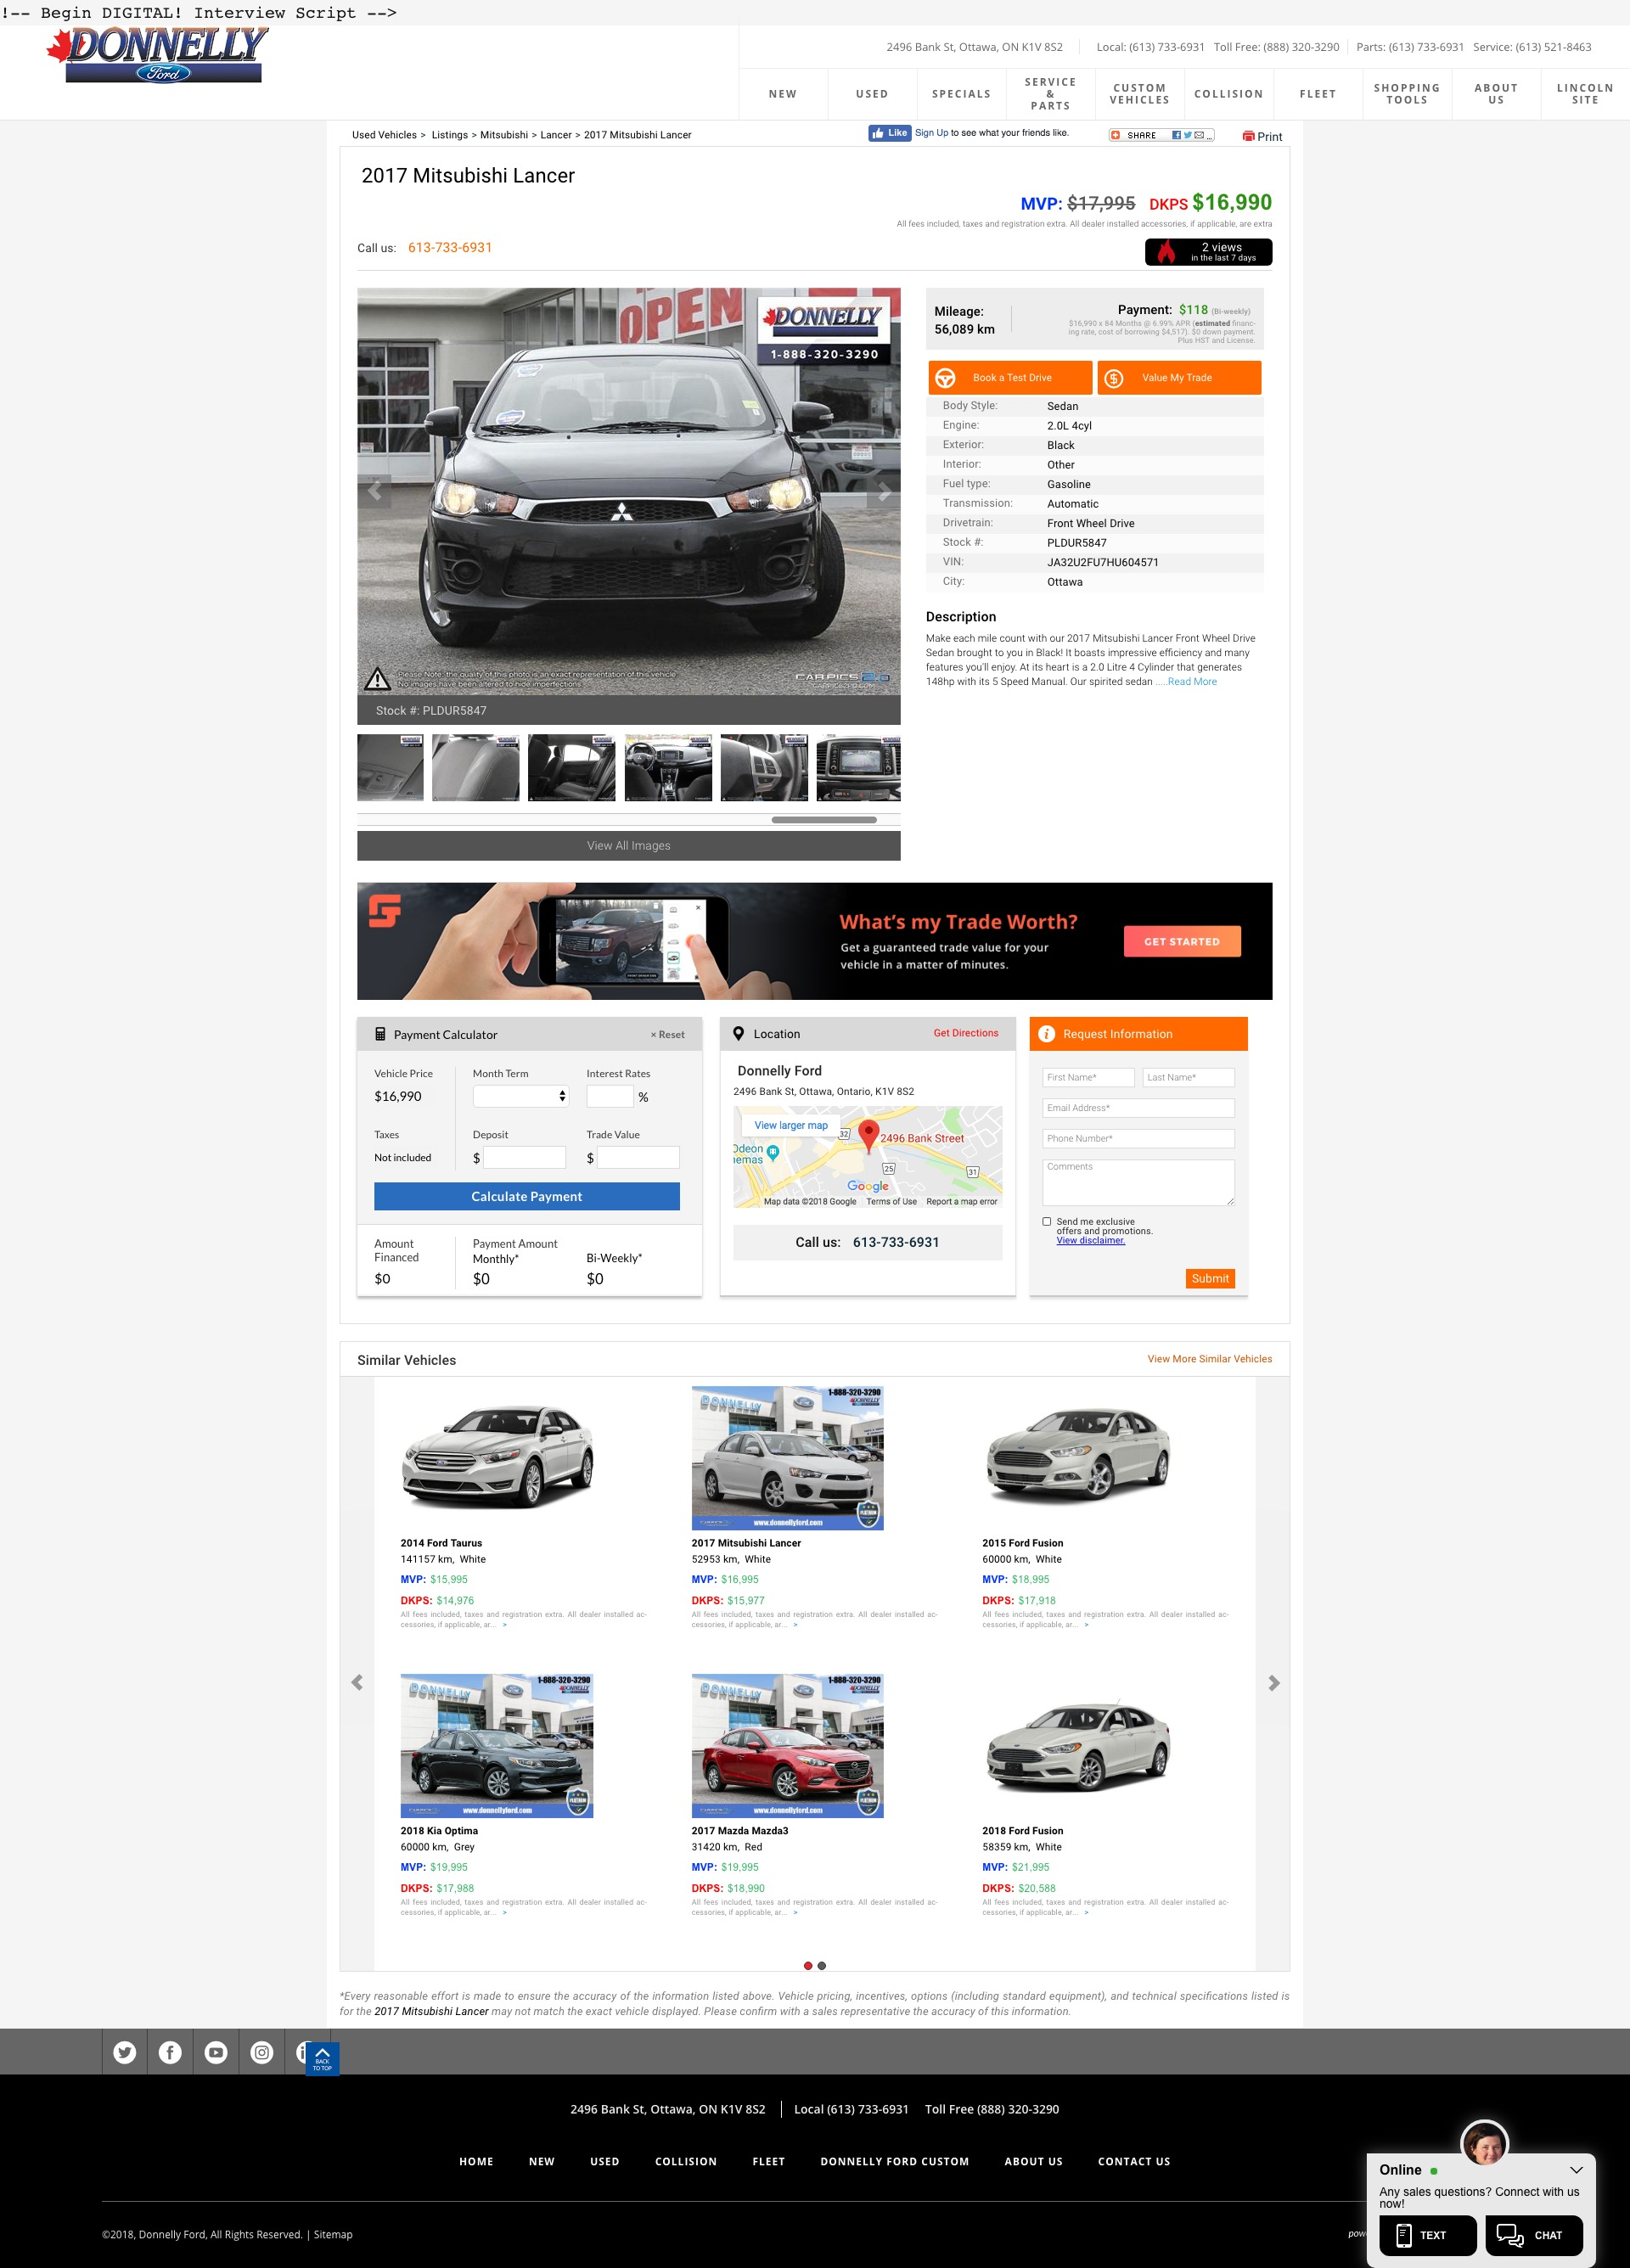car: (866, 474, 903, 511)
